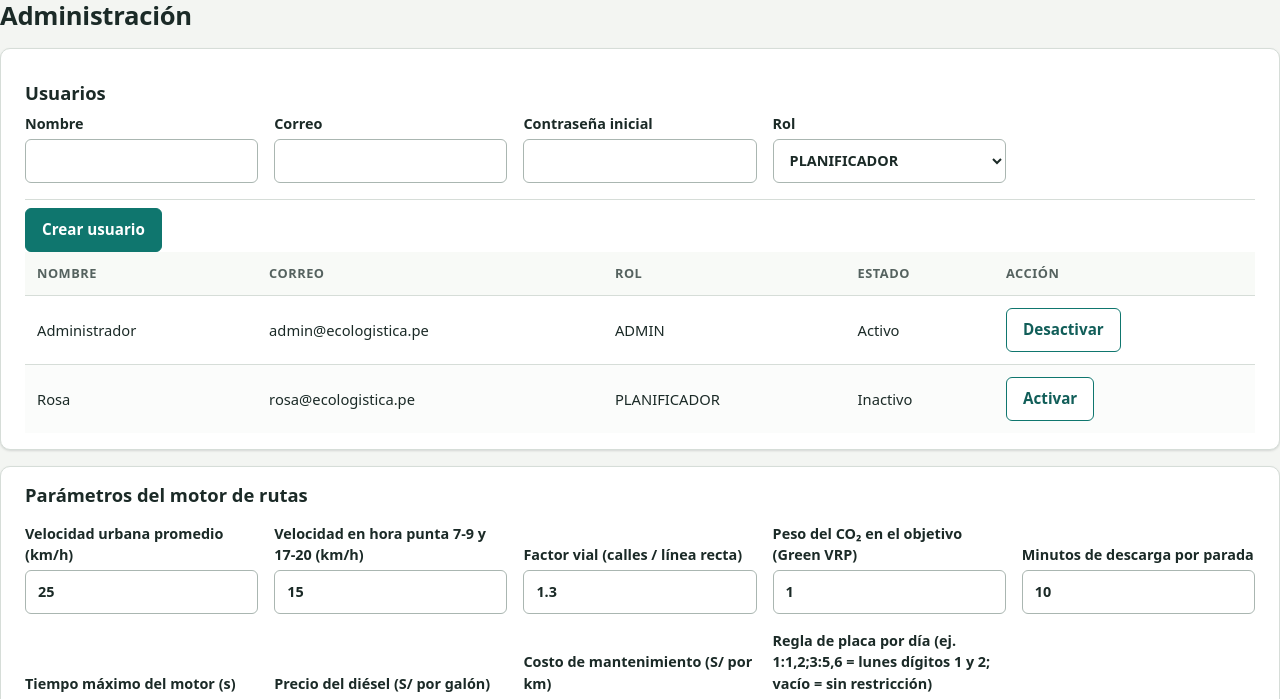
Test: Administración (RF-012) › muestra errores al crear o cambiar usuarios
Type "Repetido" into the field labelled "Nombre". click: coordinates (142, 160)
box: [25, 138, 258, 182]
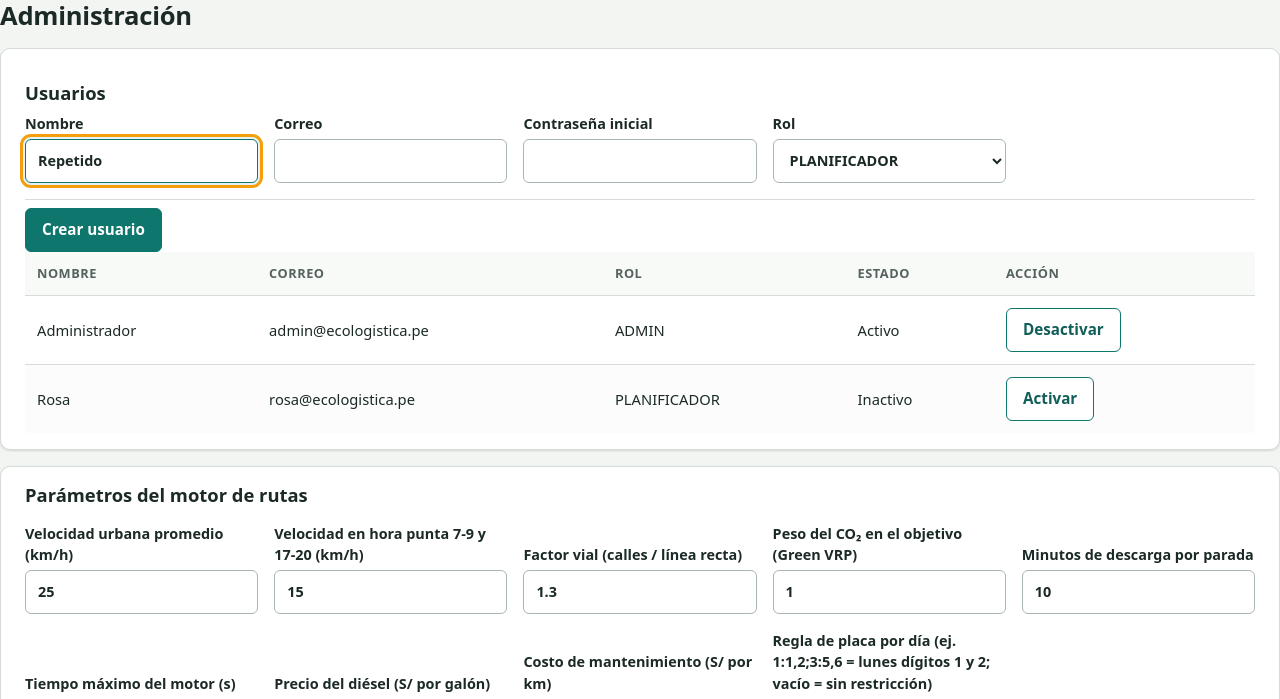
Type "rosa@ecologistica.pe" into the field labelled "Correo". click: coordinates (391, 160)
box: [274, 138, 507, 182]
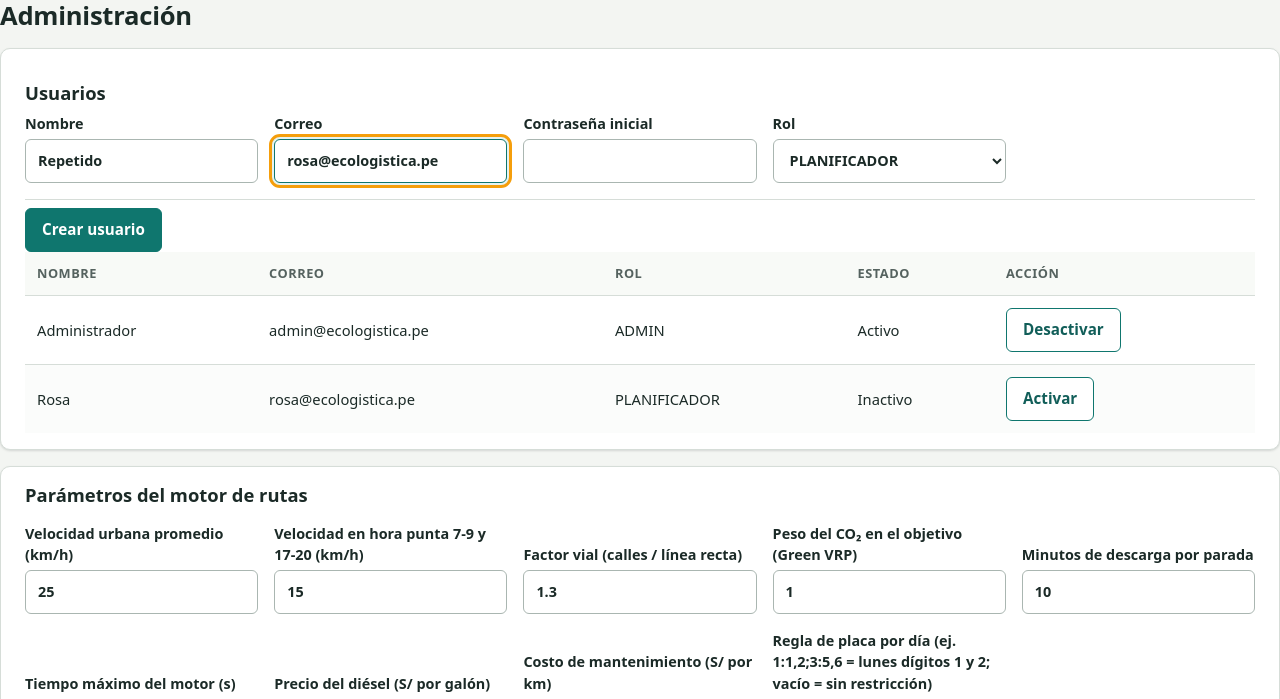
Type "Clave1234" into the password field labelled "Contraseña inicial". click: coordinates (640, 160)
box: [523, 138, 757, 182]
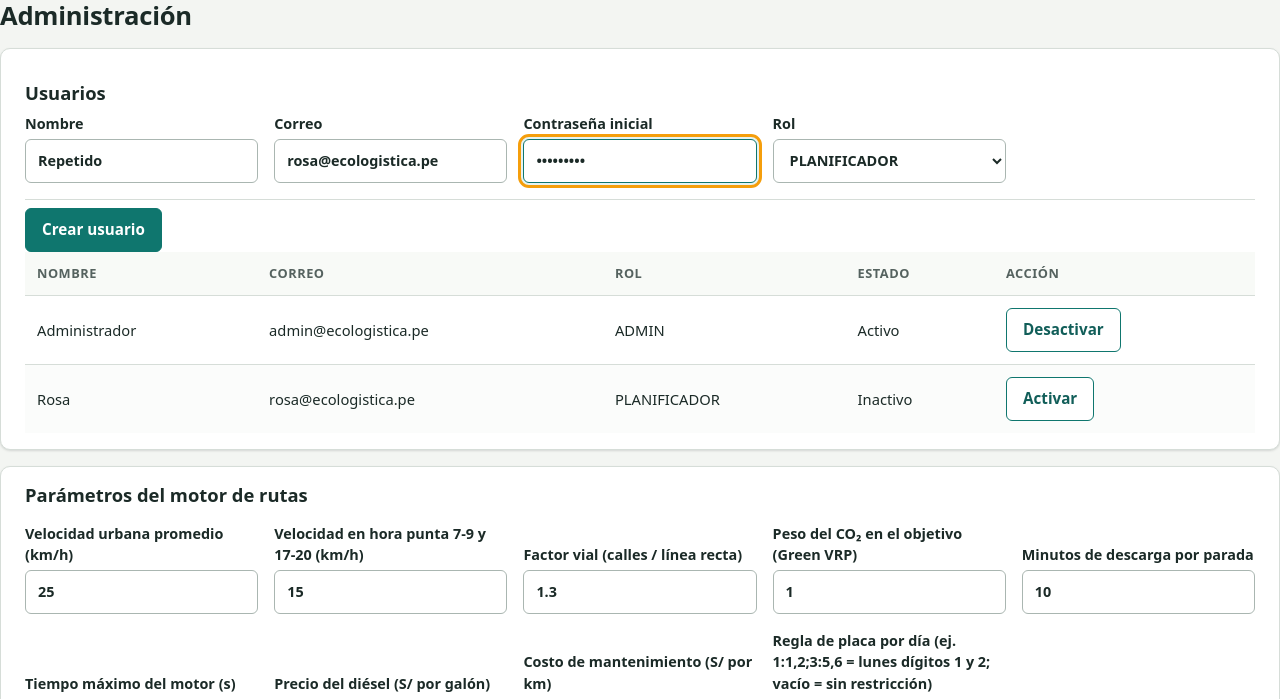
Click the button "Crear usuario". click: coordinates (93, 230)
box: [25, 208, 162, 252]
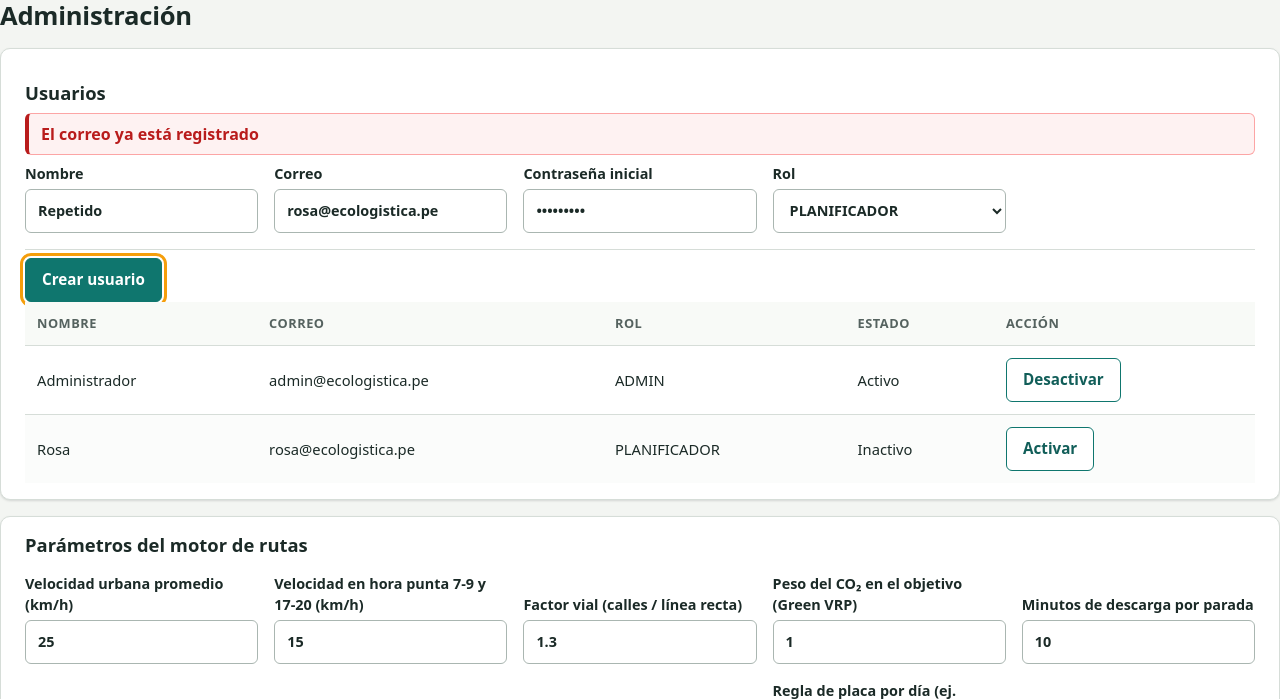
Now the text "El correo ya está registrado" is shown, box [25, 113, 1255, 155]
Click the button "Activar". click: coordinates (1050, 449)
box: [1006, 427, 1094, 471]
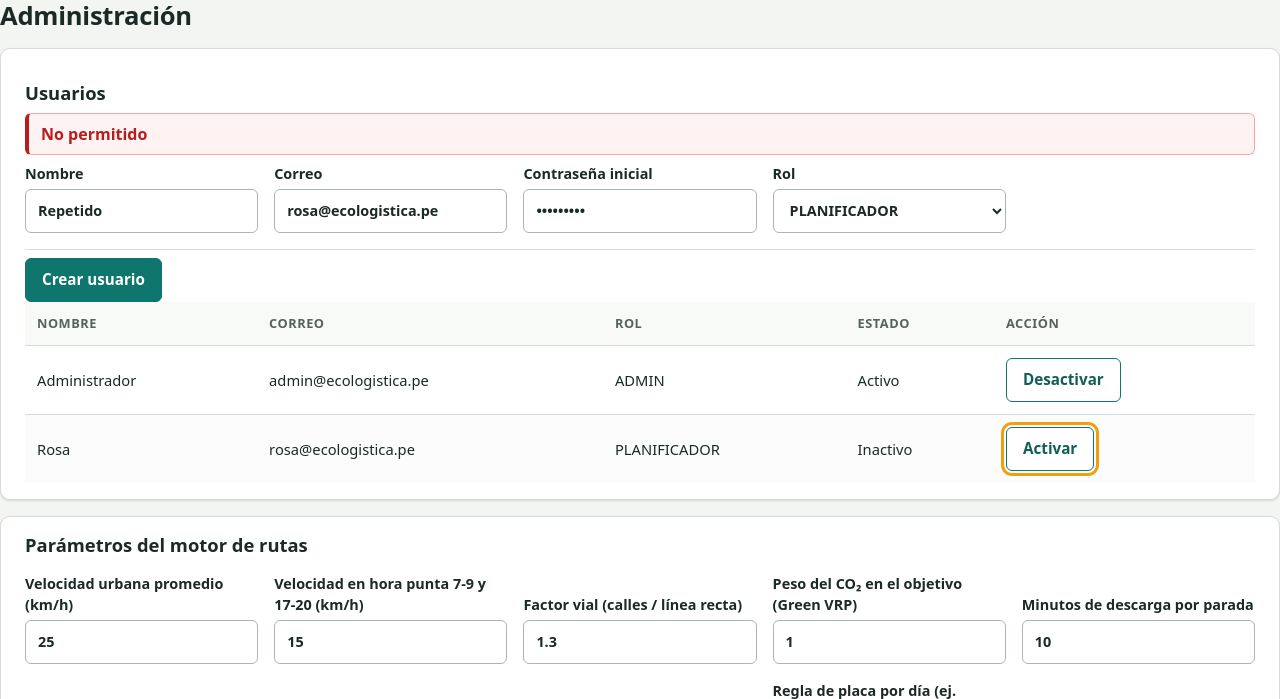
Now the text "No permitido" is shown, box [25, 113, 1255, 155]
